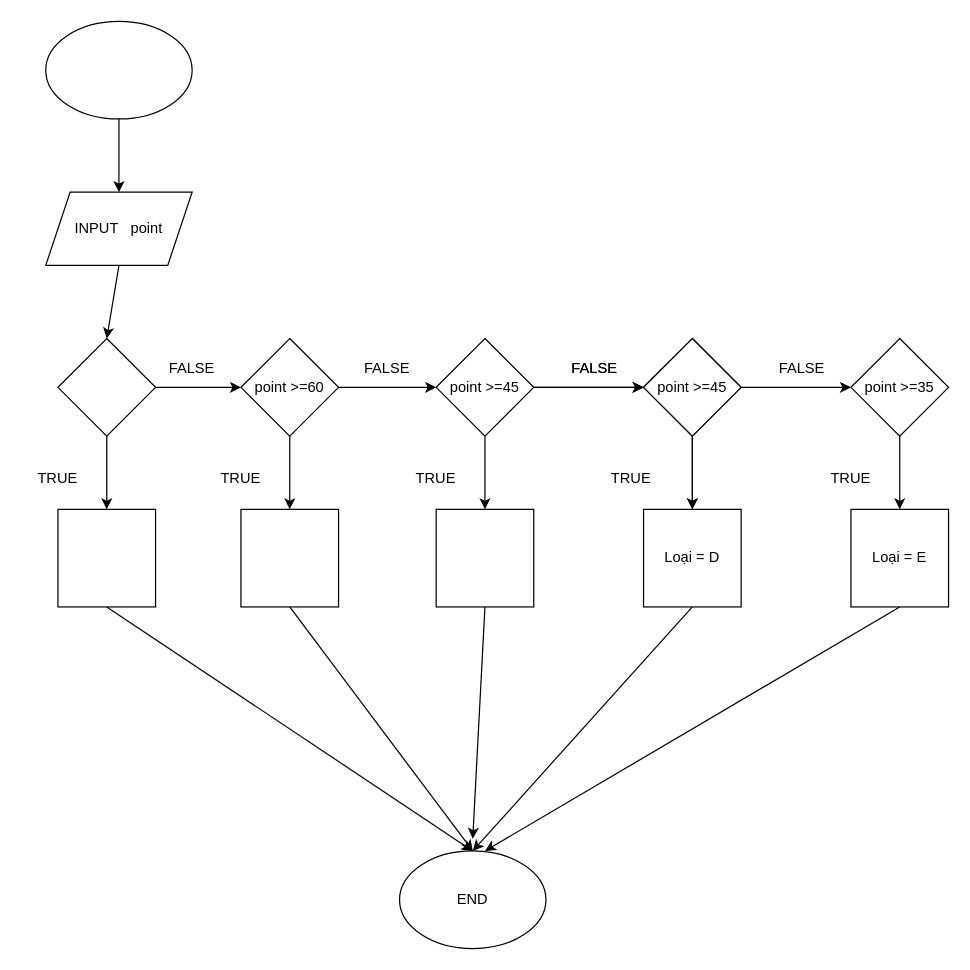
The diagram is 970 pixels wide and 970 high, and some of its shapes have lost their labels. The shapes that lost their labels are listed below. From the top down, each one's centre as x and y in pixels, then its label:
At (118,69): "START".
At (106,386): "point >=75".
At (106,557): "Loại = A".
At (289,557): "Loại = B".
At (484,557): "Loại = C".
